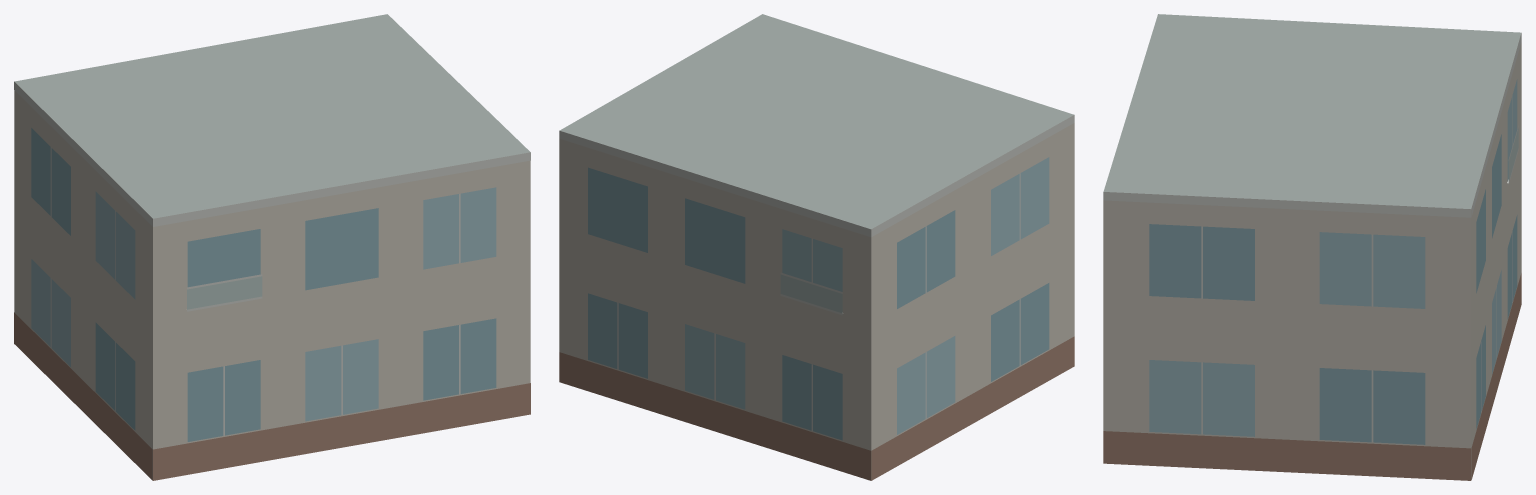
The model's file is survey-upis-32880323.glb.
3 renders of one model, left to right at view 1: azimuth 30°, elevation 25°; view 2: azimuth 150°, elevation 25°; view 3: azimuth 270°, elevation 25°, orthographic. The views are drawn at different scales.
Visible parts, largest first — view 1: survey-upis-32880323.tmp; view 2: survey-upis-32880323.tmp; view 3: survey-upis-32880323.tmp.
Boxes of the visible parts, x1,y1,x2,y2 form: survey-upis-32880323.tmp: (14, 14, 530, 480); survey-upis-32880323.tmp: (559, 14, 1074, 480); survey-upis-32880323.tmp: (1103, 14, 1521, 480).
Size of the model in its own units: 11.87 by 7.7 by 10.75.
